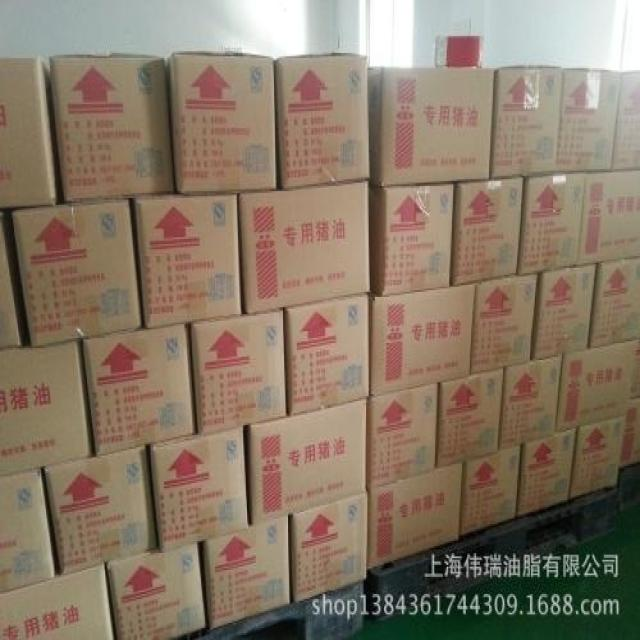box: (12, 198, 142, 346), (237, 181, 370, 315), (52, 58, 174, 202), (82, 323, 199, 455), (167, 53, 276, 194), (41, 448, 160, 576), (368, 67, 494, 187), (247, 402, 367, 526), (134, 189, 242, 326), (149, 428, 252, 552), (0, 340, 93, 476), (274, 54, 367, 189), (370, 284, 476, 397), (189, 312, 286, 434), (366, 460, 464, 571), (284, 294, 370, 417), (197, 518, 289, 630), (369, 183, 457, 300), (0, 56, 62, 208), (109, 544, 204, 638), (289, 493, 366, 602), (0, 565, 113, 638), (492, 67, 562, 179), (452, 177, 524, 284), (367, 384, 439, 490), (556, 339, 637, 431), (0, 470, 58, 591), (517, 173, 584, 277), (556, 68, 622, 171), (471, 275, 539, 373), (530, 265, 599, 361), (437, 368, 504, 466), (498, 356, 562, 449), (578, 171, 639, 267), (462, 446, 522, 538), (516, 429, 577, 515), (570, 416, 625, 499), (588, 259, 639, 347), (0, 210, 29, 348), (613, 72, 639, 171), (621, 394, 639, 466)
